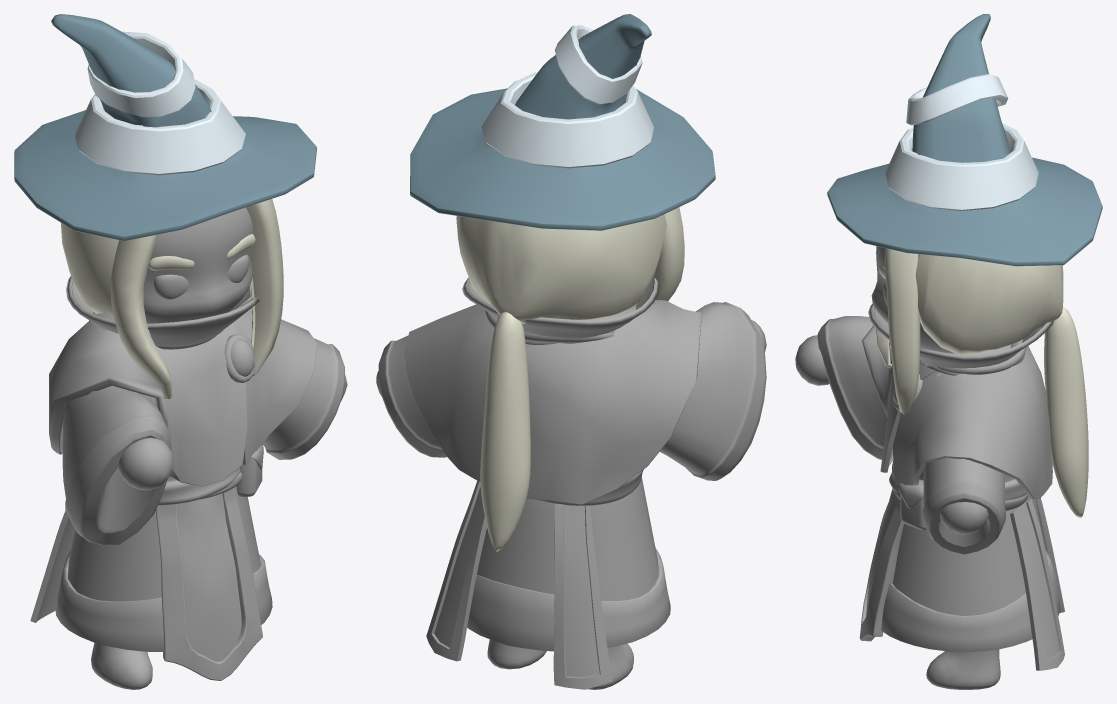
The model's file is Wizard_Testing.fbx.
The picture shows the model from 3 angles, left to right: view 1: azimuth 30°, elevation 25°; view 2: azimuth 150°, elevation 25°; view 3: azimuth 270°, elevation 25°; orthographic projection. The views are drawn at different scales.
Visible parts, largest first — view 1: polySurface62; view 2: polySurface62; view 3: polySurface62.
Boxes of the visible parts, x1,y1,x2,y2 form: polySurface62: (14,14,347,689); polySurface62: (376,14,766,689); polySurface62: (795,14,1102,689).
Bounding box in the file's own units: 12.6 × 25.08 × 11.46.
